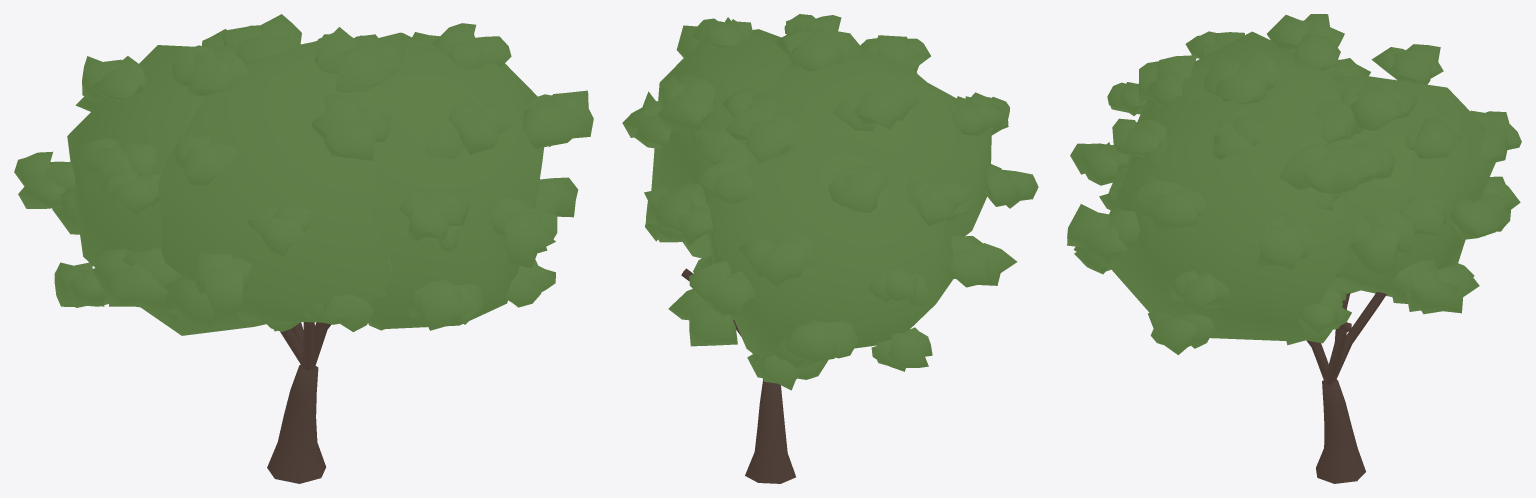
Rendered from Blender_AfricanSumac_1.glb.
The picture shows the model from 3 angles, left to right: view 1: azimuth 30°, elevation 25°; view 2: azimuth 150°, elevation 25°; view 3: azimuth 270°, elevation 25°; orthographic projection. The views are drawn at different scales.
Visible parts, largest first — view 1: Blender_AfricanSumac_1; view 2: Blender_AfricanSumac_1; view 3: Blender_AfricanSumac_1.
Boxes of the visible parts, box(x1,y1,x2,y2) form: Blender_AfricanSumac_1: box(14, 14, 593, 483); Blender_AfricanSumac_1: box(622, 14, 1038, 483); Blender_AfricanSumac_1: box(1067, 14, 1521, 483).
Bounding box in the file's own units: 8.97 × 9.34 × 9.22.
